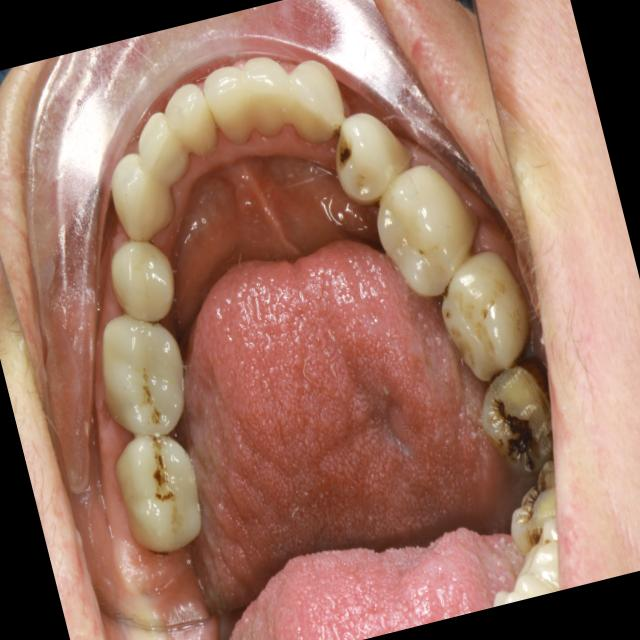tooth: (355, 144, 505, 321), (421, 243, 548, 398), (87, 299, 208, 458), (104, 417, 222, 567), (466, 352, 568, 489), (320, 93, 428, 220), (274, 36, 361, 165), (95, 225, 193, 337), (229, 33, 309, 163), (100, 137, 189, 250), (150, 60, 230, 170), (195, 51, 272, 161), (127, 101, 204, 197)
